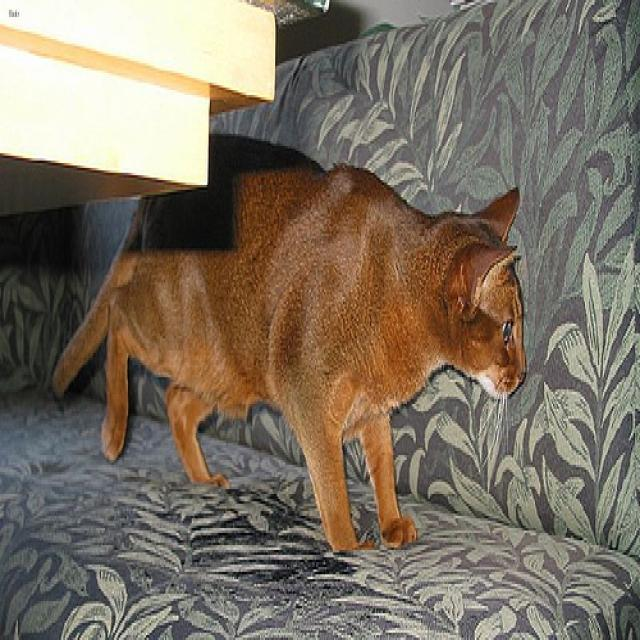Abyssinian: (442, 185, 522, 392)
